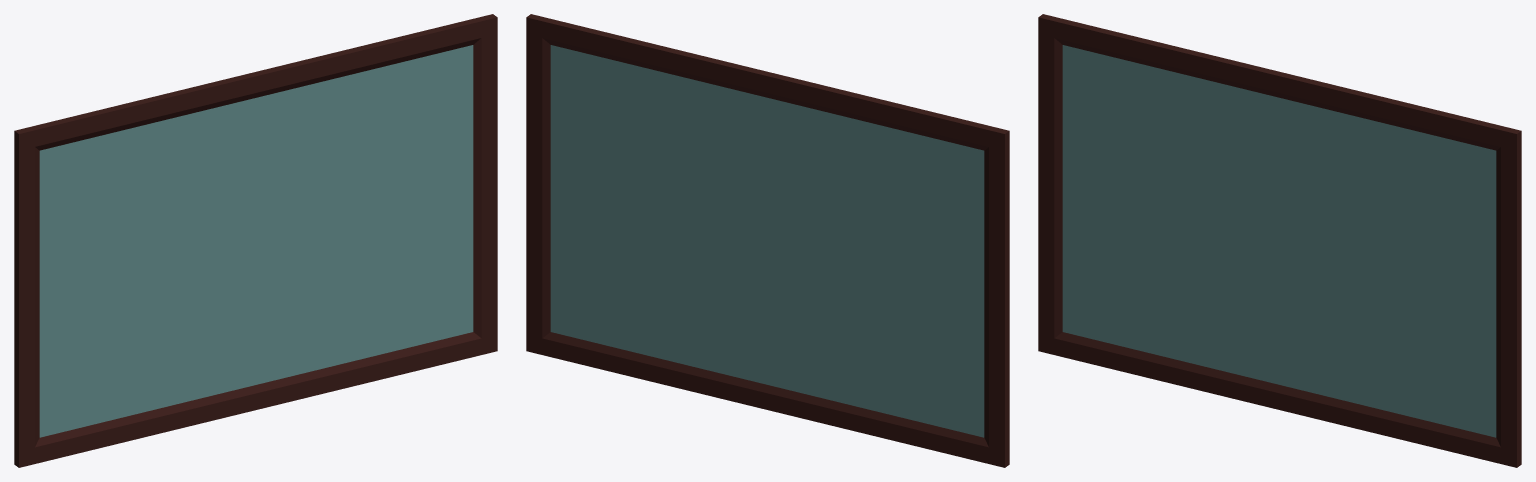
Rendered from Large Window.FBX.
3 views of the same model, side by side, from view 1: azimuth 30°, elevation 25°; view 2: azimuth 150°, elevation 25°; view 3: azimuth 330°, elevation 25° (orthographic).
Visible parts, largest first — view 1: Large Window; view 2: Large Window; view 3: Large Window.
Boxes of the visible parts, <box> form: Large Window: <box>14,14,497,467</box>; Large Window: <box>526,14,1009,467</box>; Large Window: <box>1038,14,1521,467</box>.
Bounding box in the file's own units: 3 × 2 × 0.05.
